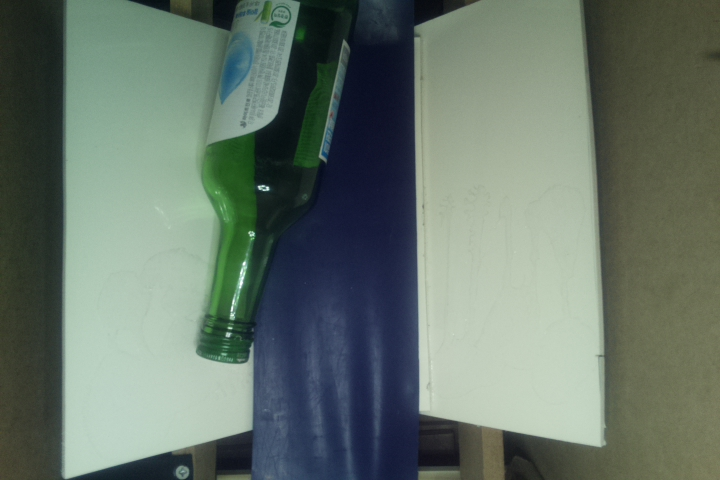soju: (191, 1, 374, 371)
